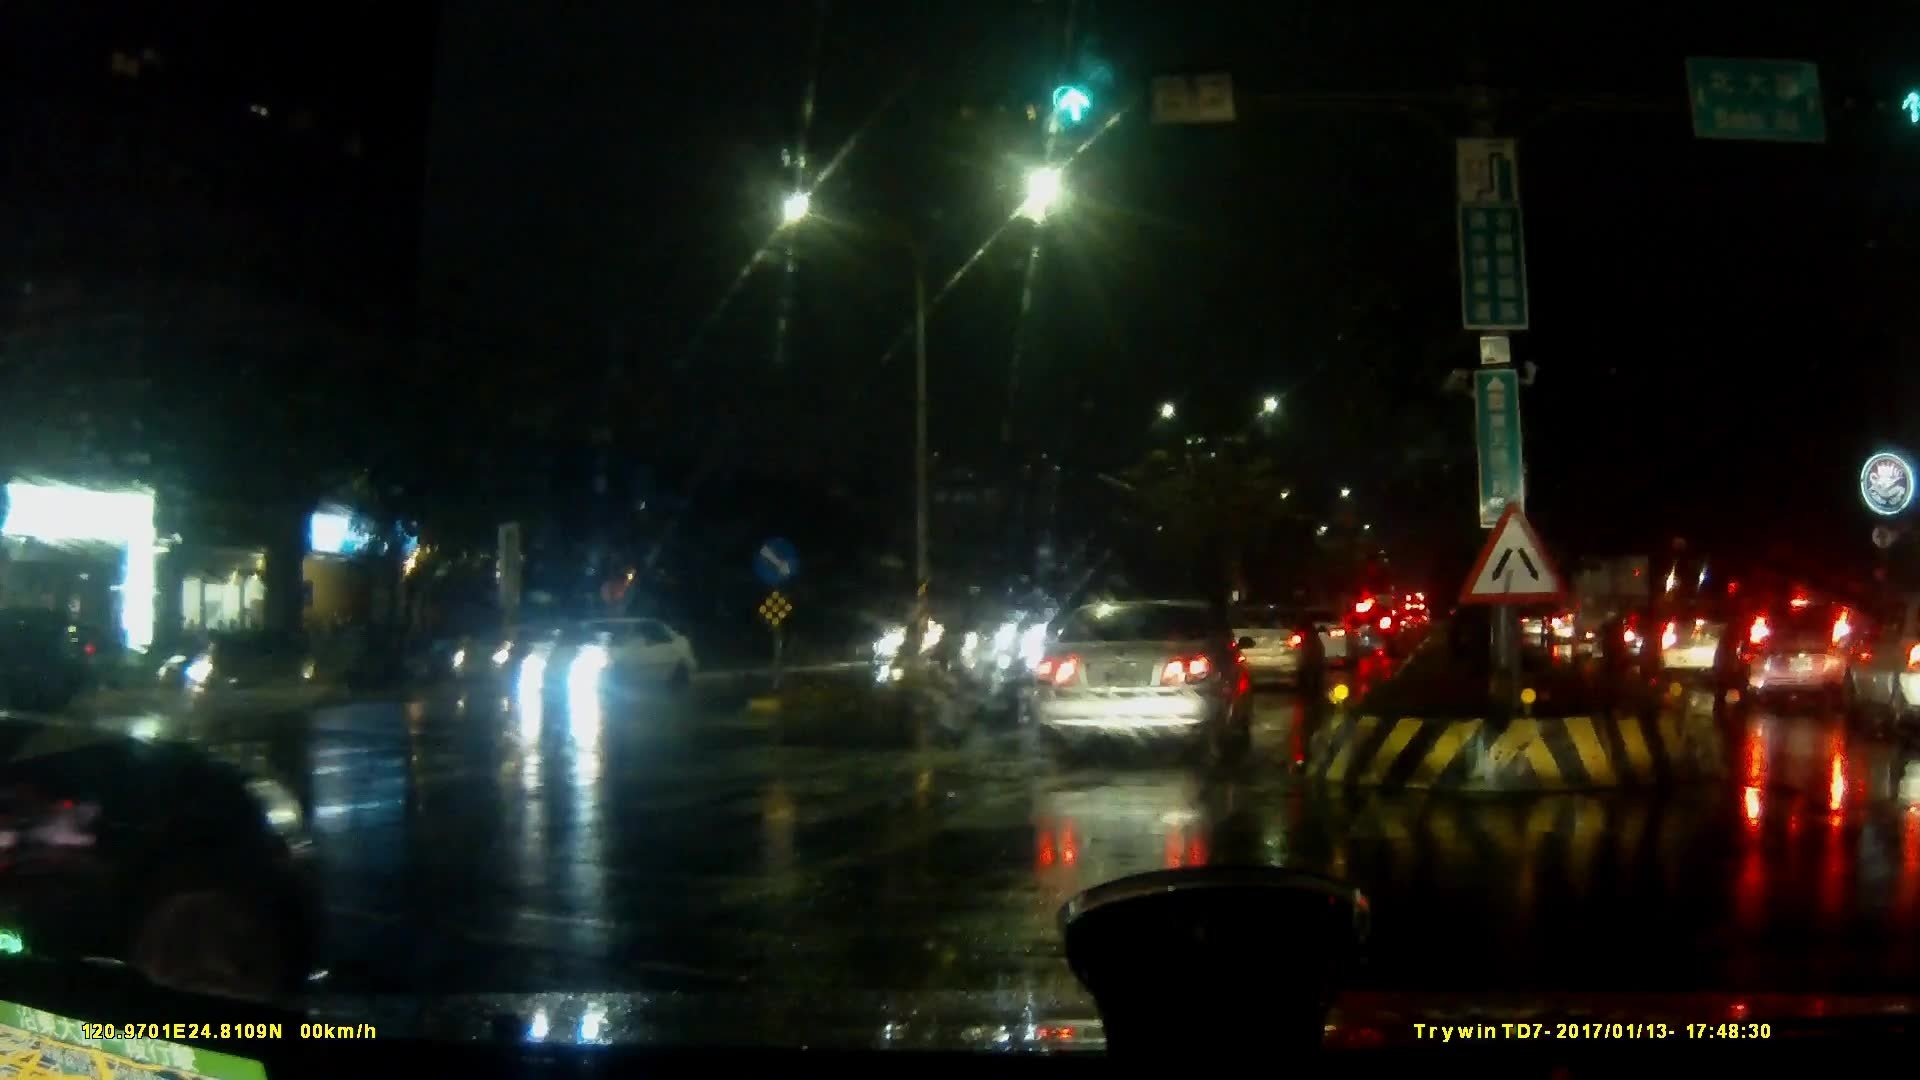vehicle: (1006, 597, 1246, 762), (1425, 603, 1596, 715), (1695, 593, 1849, 709), (1817, 587, 1920, 735), (1598, 604, 1704, 669)
